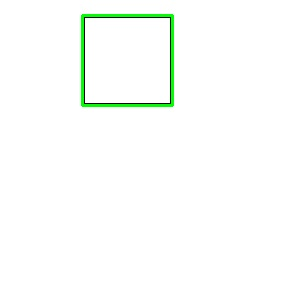line_segment: (81, 14, 174, 107)
